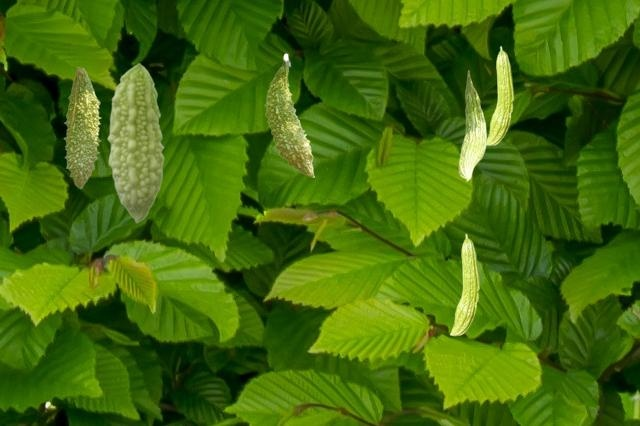ampalaya: (107, 62, 164, 223), (263, 53, 315, 178), (63, 66, 102, 189), (458, 69, 487, 182), (449, 233, 480, 336), (487, 45, 514, 146)
